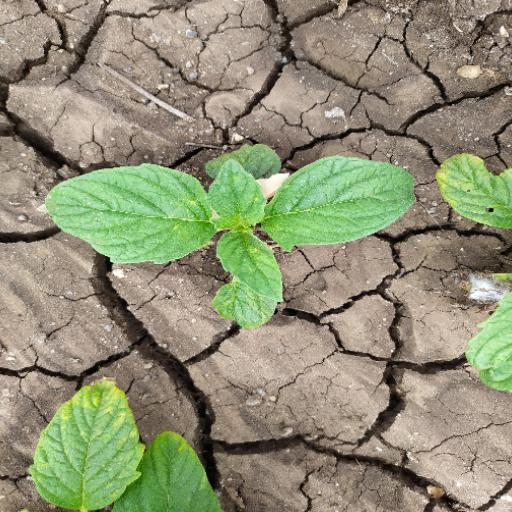crop: (26, 140, 425, 325)
